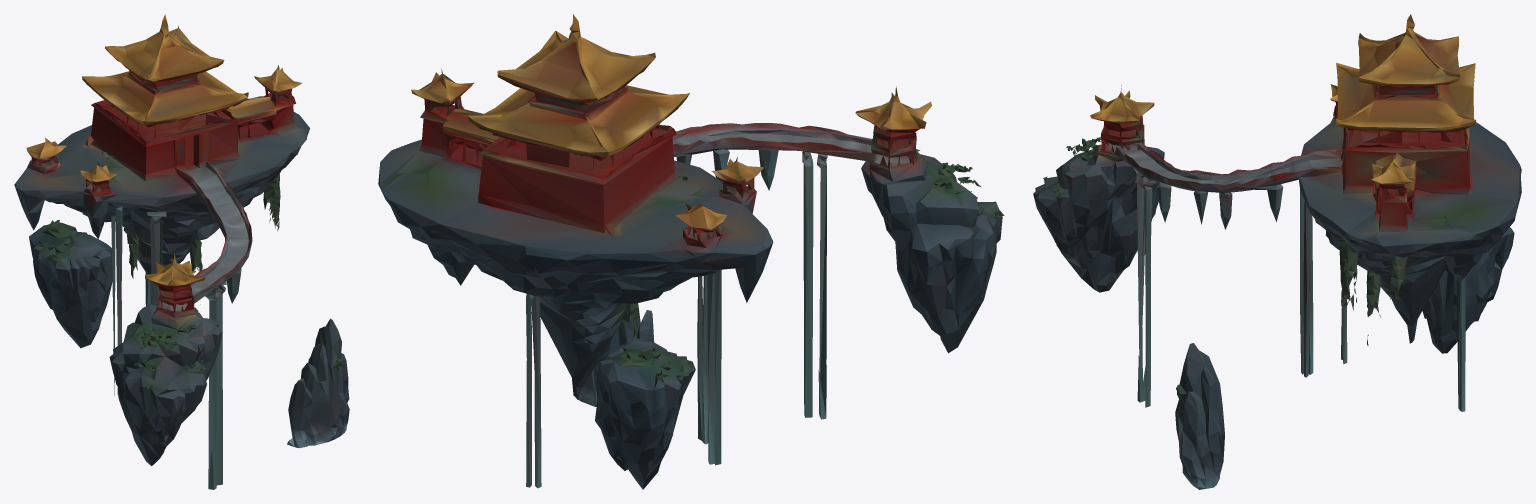
File: sky_palace.vc.glb
3 views of the same model, side by side, from view 1: azimuth 30°, elevation 25°; view 2: azimuth 150°, elevation 25°; view 3: azimuth 270°, elevation 25° (orthographic). The views are drawn at different scales.
Parts seen in each view (by area): view 1: sky_palace; view 2: sky_palace; view 3: sky_palace.
Boxes of the visible parts, x1,y1,x2,y2 form: sky_palace: (14, 14, 349, 489); sky_palace: (378, 14, 1004, 489); sky_palace: (1033, 14, 1521, 489).
Bounding box in the file's own units: 1.61 × 1.82 × 1.89.
